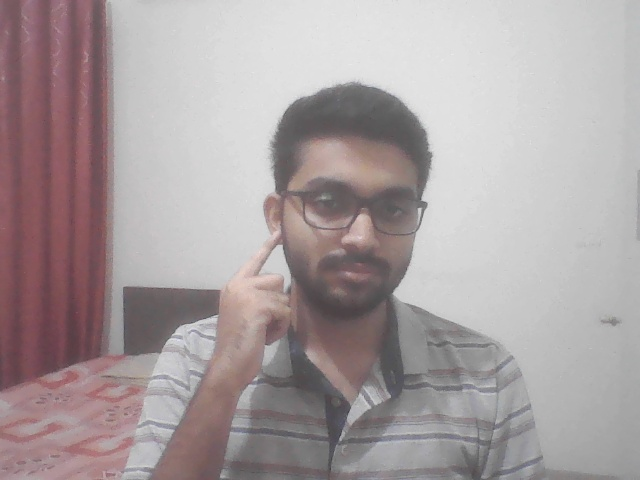deaf: (207, 218, 311, 408)
